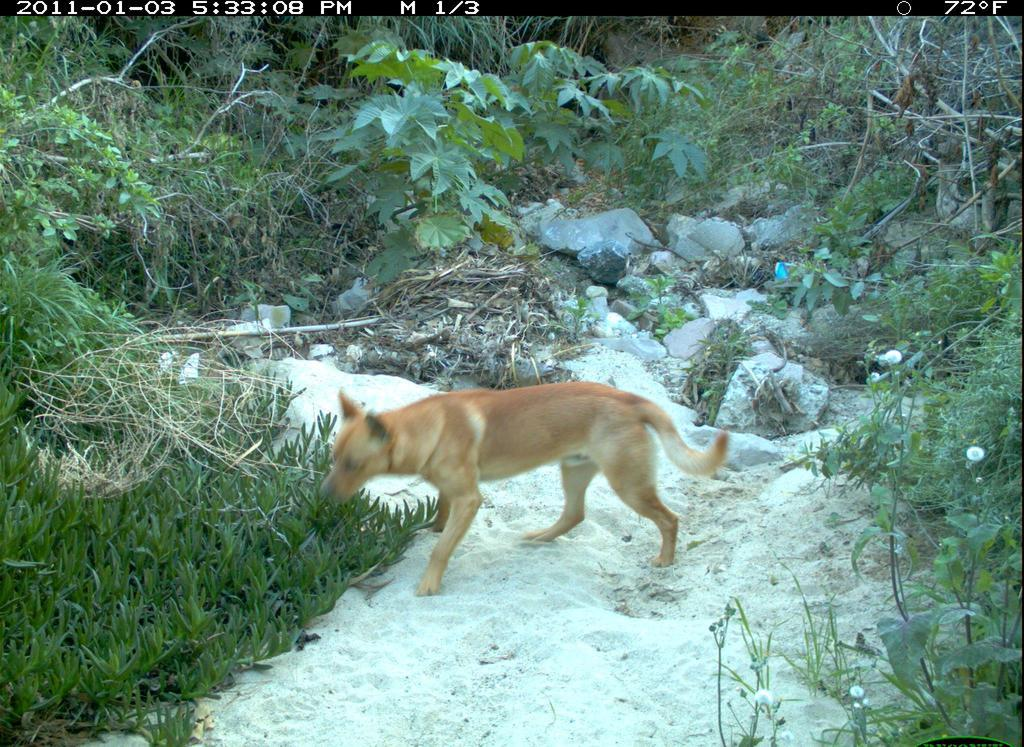dog: (309, 378, 731, 602)
